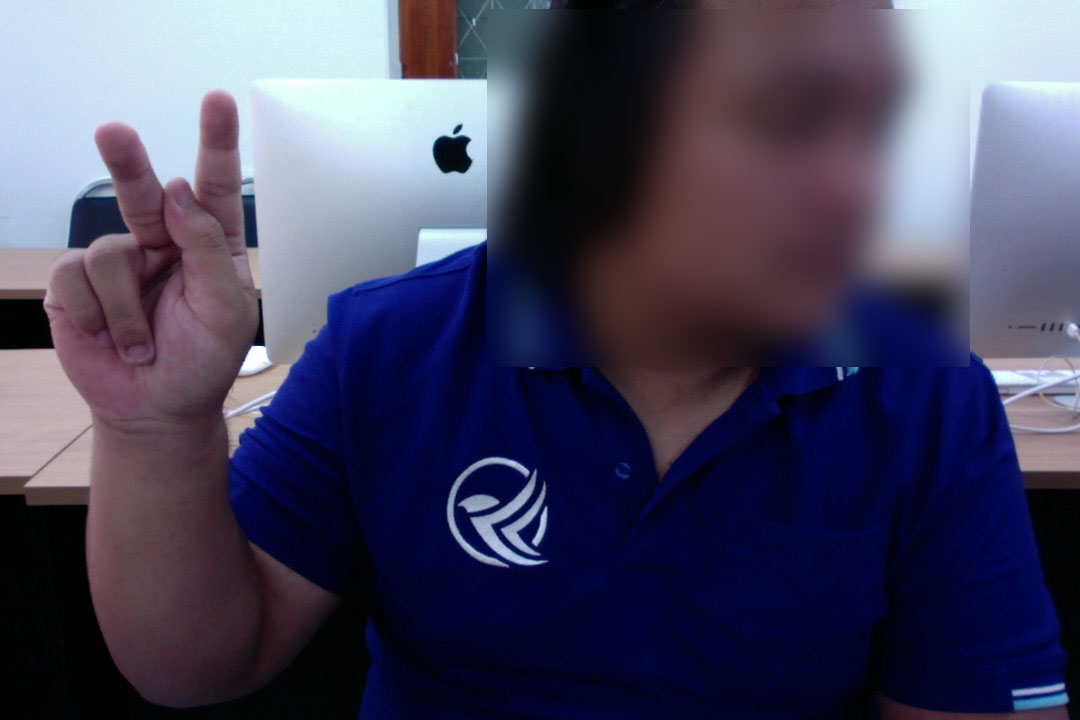ko: (43, 82, 272, 441)
